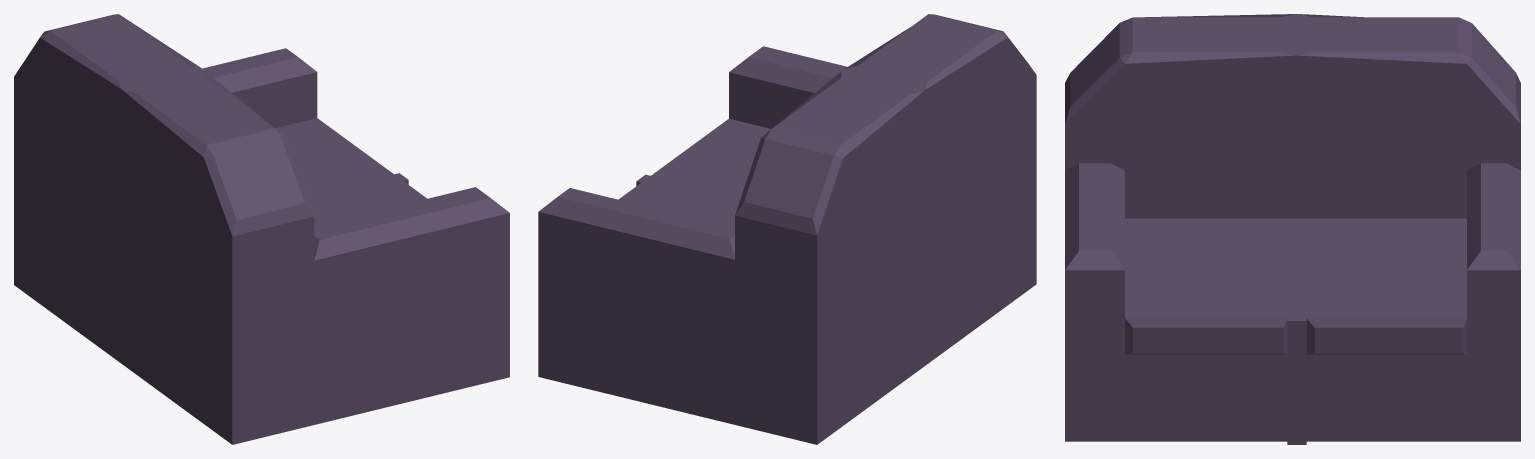
File: couch3.fbx
The picture shows the model from 3 angles, left to right: view 1: azimuth 30°, elevation 25°; view 2: azimuth 150°, elevation 25°; view 3: azimuth 270°, elevation 25°; orthographic projection. The views are drawn at different scales.
Parts seen in each view (by area): view 1: Cube; view 2: Cube; view 3: Cube.
Part boxes in pixels (<box>): Cube: <box>14,14,509,444</box>; Cube: <box>538,14,1036,444</box>; Cube: <box>1065,14,1520,444</box>.
Size of the model in its own units: 133 by 123 by 177.
